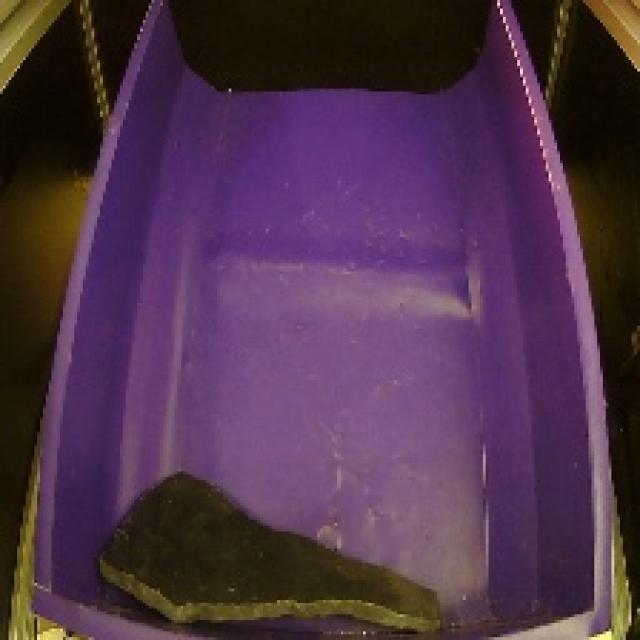china: (82, 457, 453, 640)
